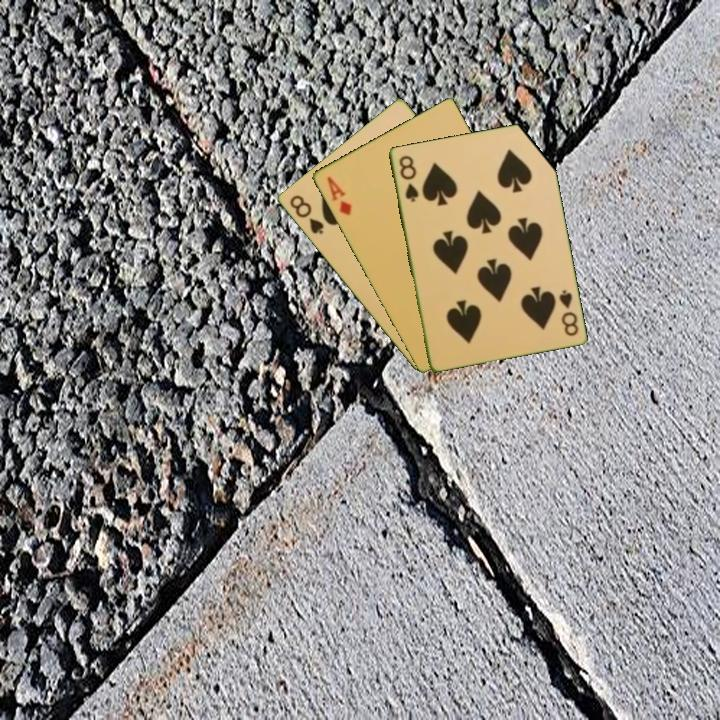8s: (286, 191, 326, 237), (555, 286, 581, 339), (395, 152, 421, 204)
Ad: (323, 173, 354, 219)
